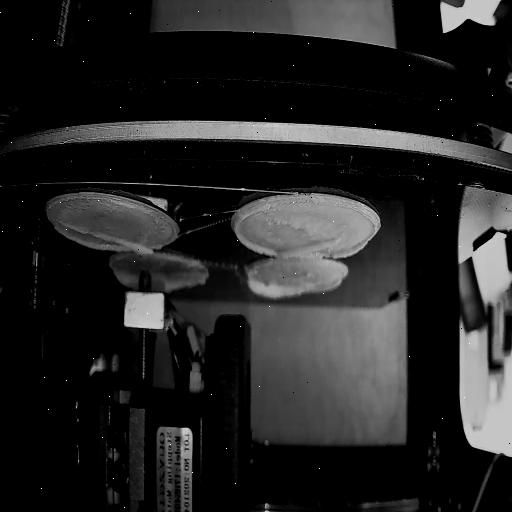over_extrusion: (61, 219, 153, 257), (230, 204, 276, 258), (278, 234, 368, 260), (244, 269, 302, 301), (154, 275, 208, 290), (112, 270, 140, 292), (310, 279, 342, 294)
